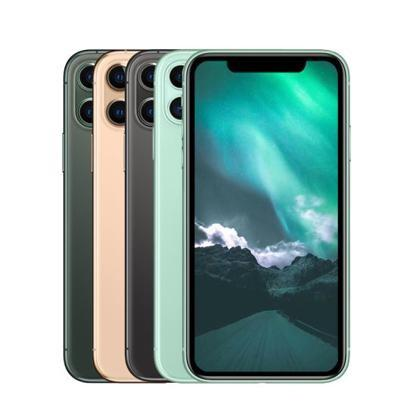not trash: (61, 46, 352, 380), (186, 50, 346, 379)
